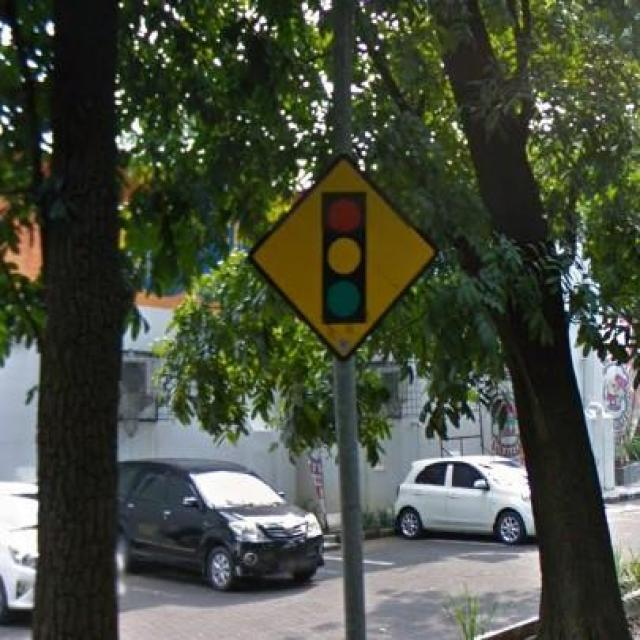traffic sign: (258, 159, 434, 351)
